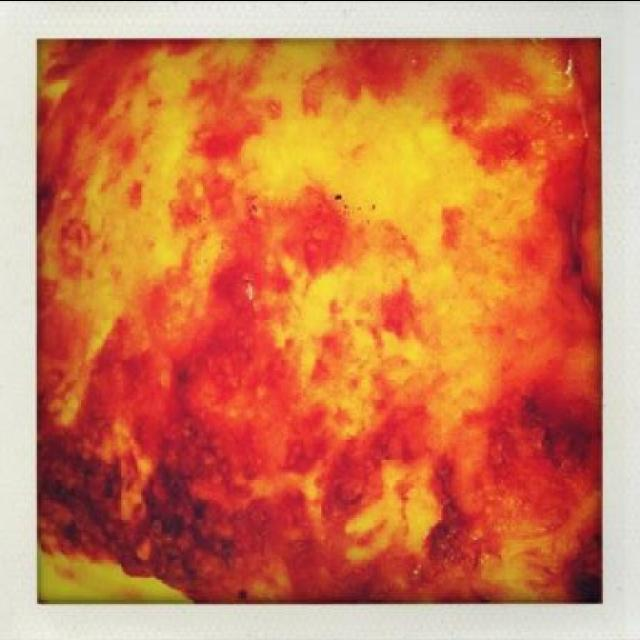Lasagna: (46, 72, 562, 584)
